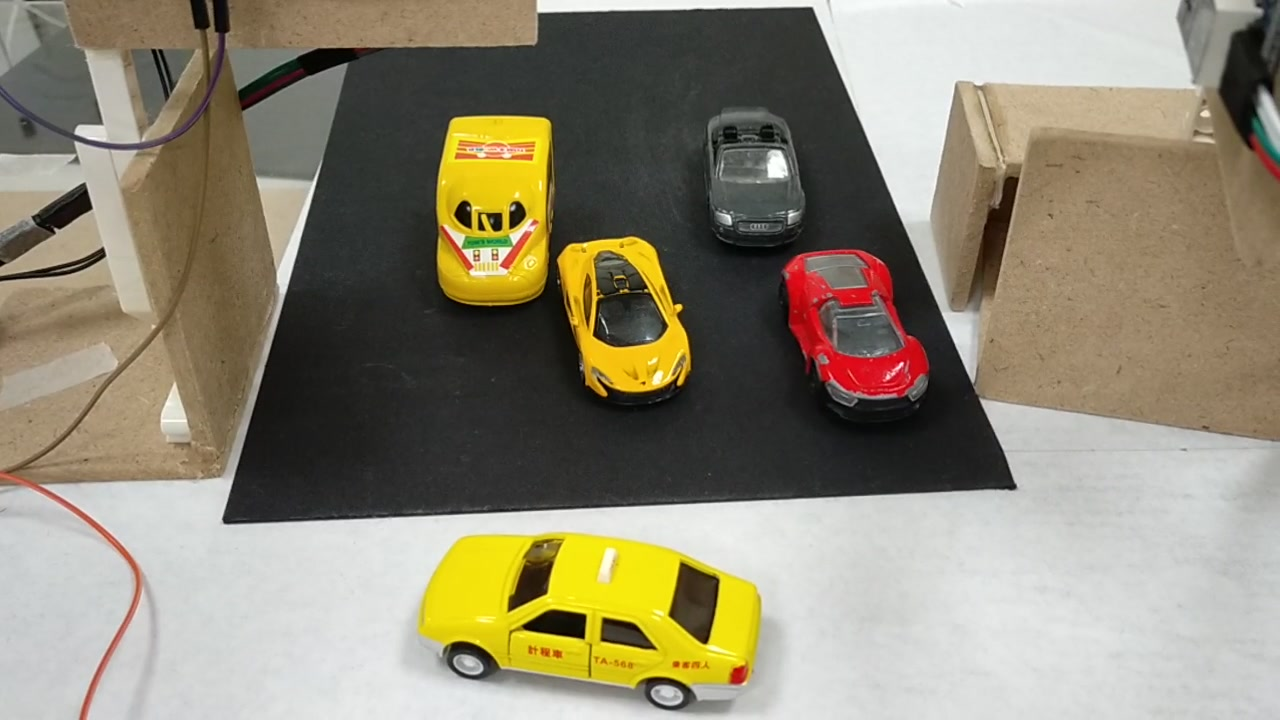car: (426, 536, 759, 708), (777, 251, 932, 417), (555, 238, 694, 409), (703, 108, 800, 246)
